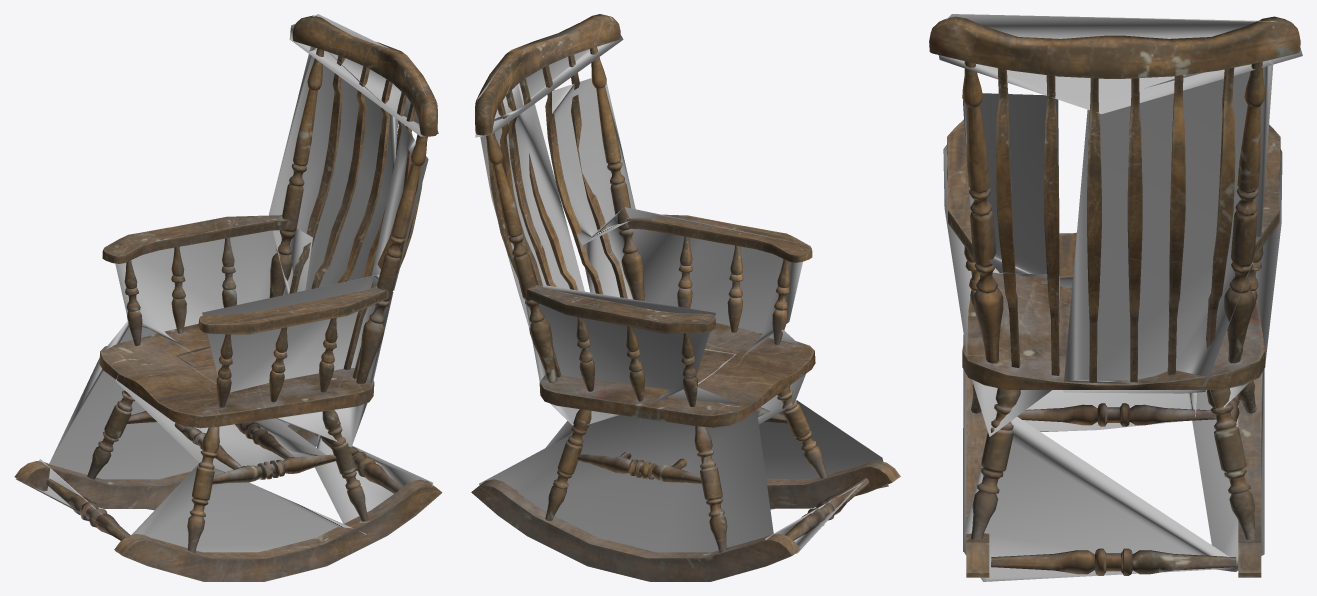
The model's file is SM_Chair.gltf.
3 renders of one model, left to right at view 1: azimuth 30°, elevation 25°; view 2: azimuth 150°, elevation 25°; view 3: azimuth 270°, elevation 25°, orthographic. The views are drawn at different scales.
Visible parts, largest first — view 1: SM_Chair_LOD0, SM_Chair_ConvexHulls; view 2: SM_Chair_LOD0, SM_Chair_ConvexHulls; view 3: SM_Chair_LOD0, SM_Chair_ConvexHulls.
Boxes of the visible parts, x1,y1,x2,y2 form: SM_Chair_LOD0: (14,15,442,581); SM_Chair_ConvexHulls: (16,14,438,552); SM_Chair_LOD0: (471,14,900,581); SM_Chair_ConvexHulls: (475,16,888,553); SM_Chair_LOD0: (929,16,1300,577); SM_Chair_ConvexHulls: (938,14,1302,581).
Size of what is drawn, in the model's own units: 0.9899 by 1.24 by 0.6911.
